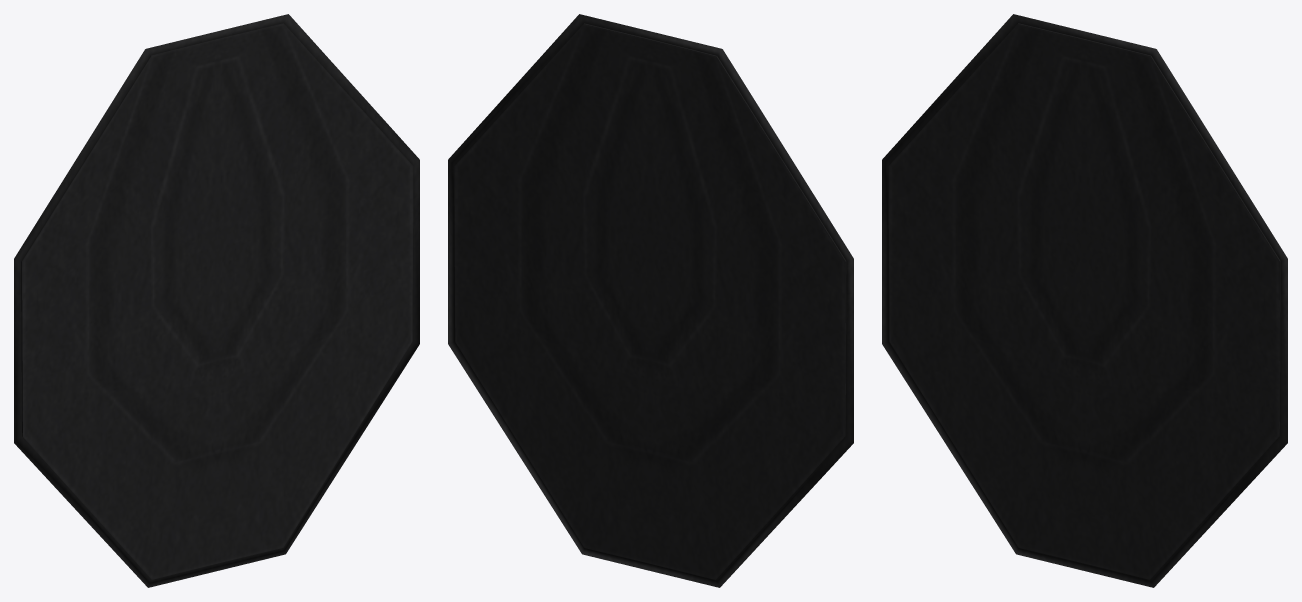
Rendered from IPSC 纸靶黑色.FBX.
3 renders of one model, left to right at view 1: azimuth 30°, elevation 25°; view 2: azimuth 150°, elevation 25°; view 3: azimuth 330°, elevation 25°, orthographic.
Parts seen in each view (by area): view 1: Object76; view 2: Object76; view 3: Object76.
Part boxes in pixels (x1,y1,x2,y2): Object76: [14, 14, 419, 587]; Object76: [448, 14, 853, 587]; Object76: [882, 14, 1287, 587].
Size of the model in its own units: 10.38 by 0.074 by 13.18.
